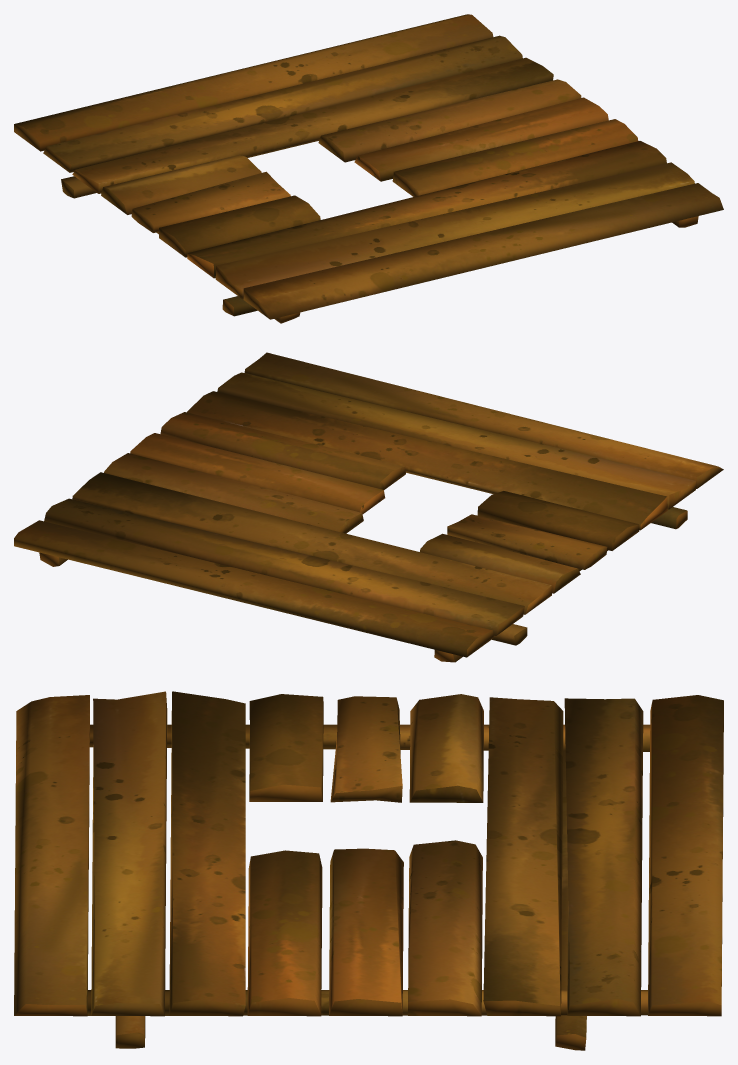
The model's file is Tree_House_Floor.obj.
3 views of the same model, one above another, from view 1: azimuth 30°, elevation 25°; view 2: azimuth 150°, elevation 25°; view 3: azimuth 270°, elevation 25° (orthographic). The views are drawn at different scales.
Parts seen in each view (by area): view 1: Object012; view 2: Object012; view 3: Object012.
Part boxes in pixels (x1,y1,x2,y2): Object012: (14, 14, 723, 323); Object012: (14, 352, 723, 662); Object012: (14, 691, 723, 1050).
Bounding box in the file's own units: 118 × 9.93 × 116.
